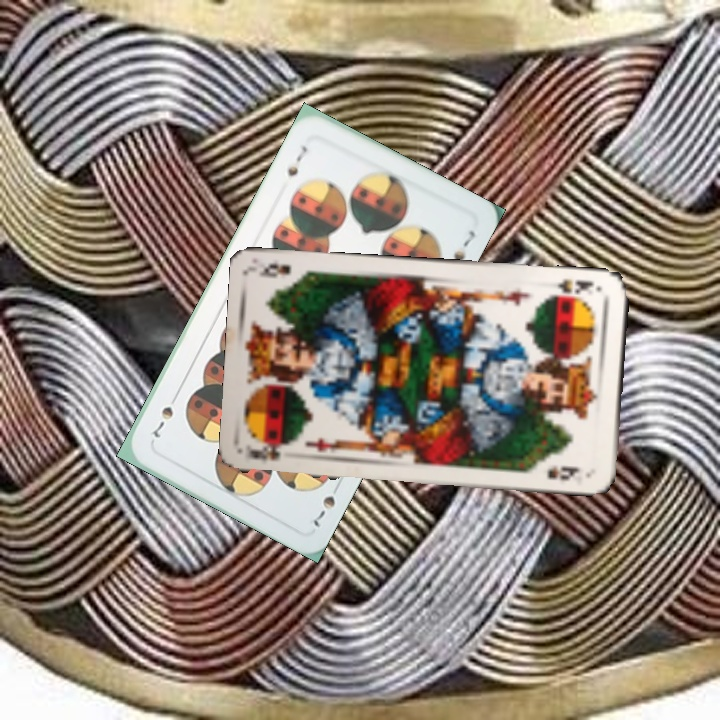S7: (309, 478, 343, 530), (283, 142, 310, 180)
SK: (545, 276, 603, 301), (245, 441, 284, 463)
